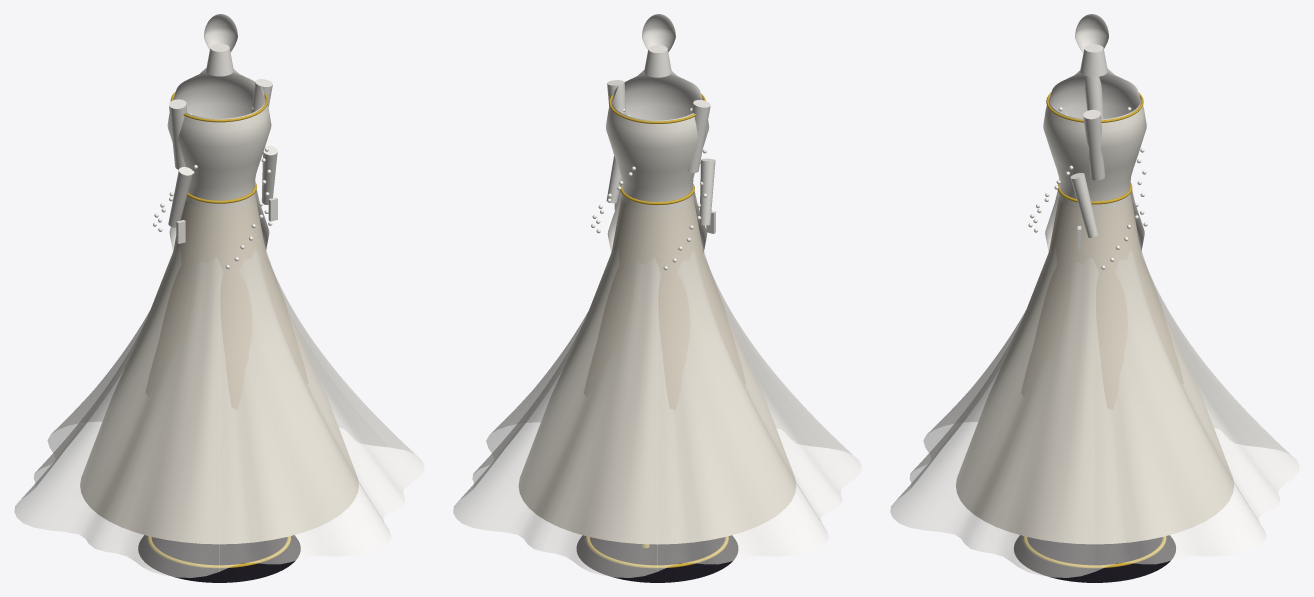
The model's file is hero-garment.glb.
The picture shows the model from 3 angles, left to right: view 1: azimuth 30°, elevation 25°; view 2: azimuth 150°, elevation 25°; view 3: azimuth 270°, elevation 25°; orthographic projection.
Parts seen in each view (by area): view 1: OrganzaSkirt, Underskirt, Bodice, DisplayPlinth, Mannequin_Torso, RightArm, LeftArm, Mannequin_Head, Mannequin_Neck, CoutureGarment_ChampagneGown, women_RetailMannequin_DisplayForm; view 2: OrganzaSkirt, Underskirt, Bodice, DisplayPlinth, Mannequin_Torso, RightArm, Mannequin_Head, LeftArm, Mannequin_Neck, CoutureGarment_ChampagneGown, women_RetailMannequin_DisplayForm; view 3: OrganzaSkirt, Underskirt, Bodice, DisplayPlinth, Mannequin_Torso, LeftArm, Mannequin_Head, Mannequin_Neck, CoutureGarment_ChampagneGown, women_RetailMannequin_DisplayForm, RightArm.
Boxes of the visible parts, left/top/right/bottom form: OrganzaSkirt: left=14, top=192, right=424, bottom=577; Underskirt: left=80, top=193, right=358, bottom=544; Bodice: left=167, top=99, right=271, bottom=200; DisplayPlinth: left=138, top=535, right=300, bottom=582; Mannequin_Torso: left=169, top=68, right=269, bottom=251; RightArm: left=168, top=99, right=193, bottom=243; LeftArm: left=251, top=79, right=277, bottom=221; Mannequin_Head: left=204, top=14, right=237, bottom=52; Mannequin_Neck: left=206, top=43, right=233, bottom=76; CoutureGarment_ChampagneGown: left=170, top=92, right=268, bottom=203; women_RetailMannequin_DisplayForm: left=148, top=536, right=290, bottom=568; OrganzaSkirt: left=453, top=194, right=861, bottom=577; Underskirt: left=518, top=194, right=796, bottom=544; Bodice: left=605, top=100, right=709, bottom=201; DisplayPlinth: left=576, top=535, right=738, bottom=582; Mannequin_Torso: left=607, top=70, right=707, bottom=252; RightArm: left=687, top=100, right=715, bottom=233; Mannequin_Head: left=642, top=14, right=675, bottom=51; LeftArm: left=606, top=80, right=626, bottom=209; Mannequin_Neck: left=644, top=45, right=671, bottom=77; CoutureGarment_ChampagneGown: left=609, top=93, right=705, bottom=205; women_RetailMannequin_DisplayForm: left=586, top=536, right=728, bottom=568; OrganzaSkirt: left=890, top=193, right=1299, bottom=577; Underskirt: left=956, top=193, right=1233, bottom=544; Bodice: left=1043, top=100, right=1146, bottom=201; DisplayPlinth: left=1014, top=535, right=1175, bottom=582; Mannequin_Torso: left=1045, top=68, right=1144, bottom=252; LeftArm: left=1070, top=109, right=1105, bottom=250; Mannequin_Head: left=1075, top=14, right=1108, bottom=53; Mannequin_Neck: left=1080, top=44, right=1107, bottom=76; CoutureGarment_ChampagneGown: left=1046, top=92, right=1143, bottom=204; women_RetailMannequin_DisplayForm: left=1023, top=536, right=1166, bottom=568; RightArm: left=1085, top=76, right=1103, bottom=119.
Size of the model in its own units: 2.18 by 3.04 by 2.12.
